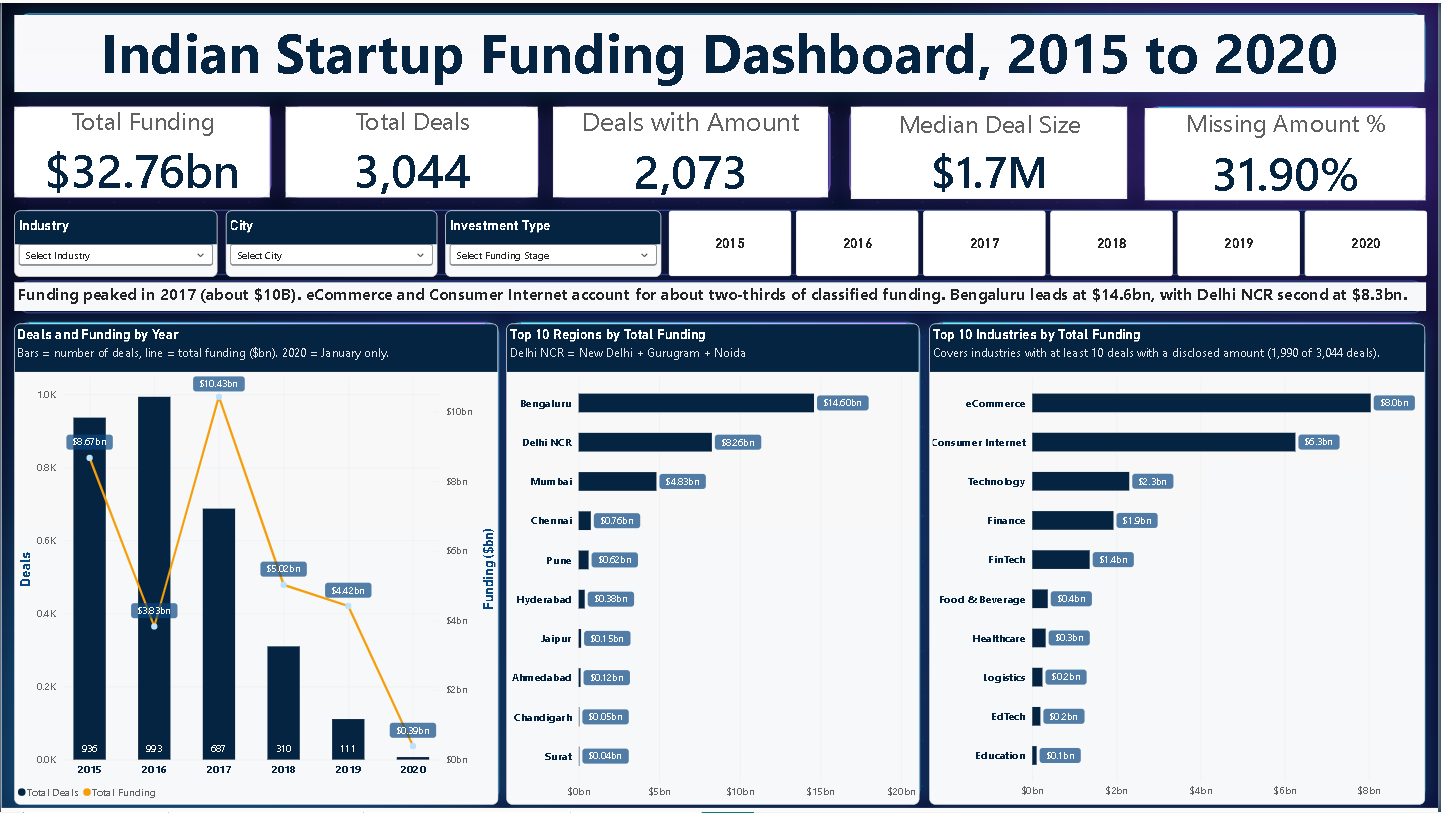

The dashboard page shown, as its layout file describes it:
{"tool":"powerbi","page":{"name":"Overview","canvas":[1920,1080],"ordinal":0},"visuals":[{"type":"cardVisual","fields":{"Data":["funding.Total Funding"]},"box":[17.4,139.4,341.1,121.1],"z":1000},{"type":"cardVisual","fields":{"Data":["funding.Total Deals"]},"box":[379.6,139.4,337,121.1],"z":2000},{"type":"cardVisual","fields":{"Data":["funding.Median Deal Size"]},"box":[1134.8,139.4,369.3,123.1],"z":3000},{"type":"cardVisual","fields":{"Data":["funding.Deals with Amount"]},"box":[737.8,139.4,367.3,121.1],"z":4000},{"type":"cardVisual","fields":{"Data":["funding.Missing Amount %"]},"box":[1527.7,140,375.4,123.1],"z":5000},{"type":"textbox","box":[17.4,16,1884.2,103],"z":6000},{"type":"lineClusteredColumnComboChart","title":"Deals and Funding by Year","fields":{"Category":["funding.year.Variation.Date Hierarchy.Year"],"Y":["funding.Total Deals"],"Y2":["funding.Total Funding"]},"box":[17.4,428,646.8,642.9],"z":7000},{"type":"clusteredBarChart","title":"Top 10 Industries by Total Funding","fields":{"Category":["funding.industry"],"Y":["funding.Total Funding"]},"box":[1241.3,428,662.3,643],"z":8000},{"type":"clusteredBarChart","title":"Top 10 Regions by Total Funding","fields":{"Category":["funding.Region"],"Y":["funding.Total Funding"]},"box":[675.8,428,551.9,642.9],"z":9000},{"type":"advancedSlicerVisual","fields":{"Values":["funding.year.Variation.Date Hierarchy.Year"]},"box":[892,277,1019,88.4],"z":10000},{"type":"listSlicer","title":"Industry","fields":{"Values":["funding.industry"]},"box":[17.4,276.9,271.1,89.1],"z":11000},{"type":"listSlicer","title":"Investment Type","fields":{"Values":["funding.investment_type"]},"box":[593.2,276.9,288.5,89.1],"z":12000},{"type":"listSlicer","title":"City","fields":{"Values":["funding.city_clean"]},"box":[299.5,276.9,282.7,89.1],"z":13000},{"type":"textbox","box":[17,373,1886.2,38],"z":14000}]}

Visuals, with their boxes in screenshot pixels (x1, y1, x2, y2), scaled from the page's 1920x1080 canvas onto the 1441x813 screenshot:
cardVisual - funding.Total Funding: [13, 105, 269, 196]
cardVisual - funding.Total Deals: [285, 105, 538, 196]
cardVisual - funding.Median Deal Size: [852, 105, 1129, 198]
cardVisual - funding.Deals with Amount: [554, 105, 829, 196]
cardVisual - funding.Missing Amount %: [1147, 105, 1428, 198]
textbox: [13, 12, 1427, 90]
"Deals and Funding by Year" lineClusteredColumnComboChart: [13, 322, 498, 806]
"Top 10 Industries by Total Funding" clusteredBarChart: [932, 322, 1429, 806]
"Top 10 Regions by Total Funding" clusteredBarChart: [507, 322, 921, 806]
advancedSlicerVisual - funding.year.Variation.Date Hierarchy.Year: [669, 209, 1434, 275]
"Industry" listSlicer: [13, 208, 217, 276]
"Investment Type" listSlicer: [445, 208, 662, 276]
"City" listSlicer: [225, 208, 437, 276]
textbox: [13, 281, 1428, 309]
